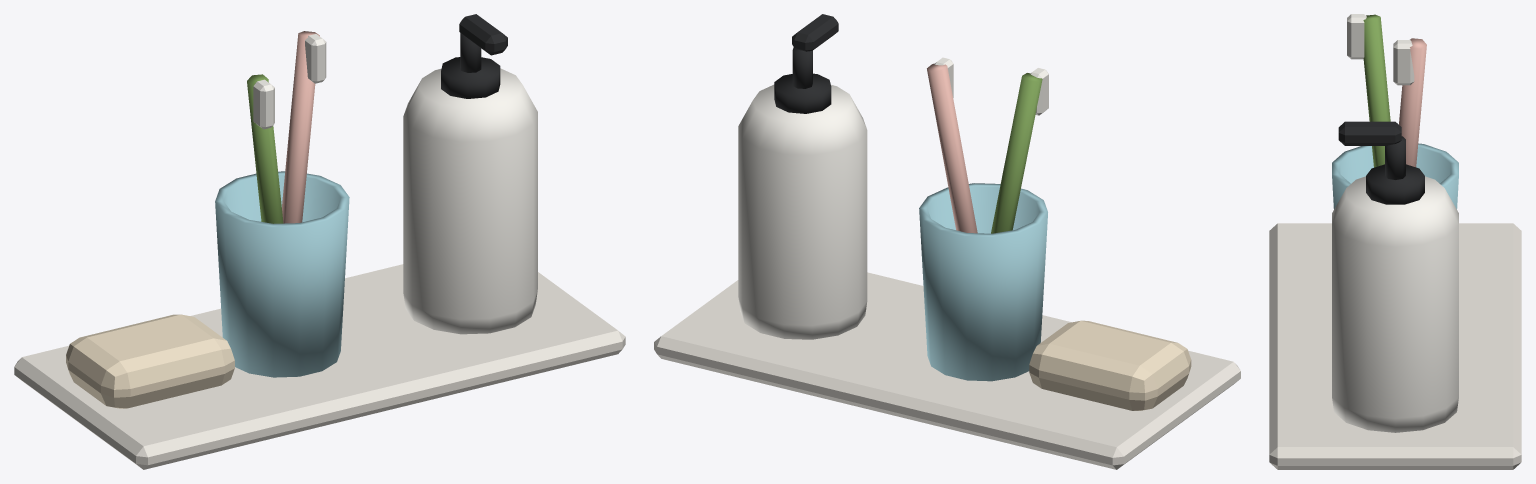
Rendered from soapSet.glb.
The picture shows the model from 3 angles, left to right: view 1: azimuth 30°, elevation 25°; view 2: azimuth 150°, elevation 25°; view 3: azimuth 270°, elevation 25°; orthographic projection. The views are drawn at different scales.
Parts seen in each view (by area): view 1: soapSet; view 2: soapSet; view 3: soapSet.
Boxes of the visible parts, x1,y1,x2,y2 form: soapSet: (14,14,625,469); soapSet: (654,14,1240,469); soapSet: (1269,14,1521,469).
Bounding box in the file's own units: 0.26 × 0.166 × 0.12.
